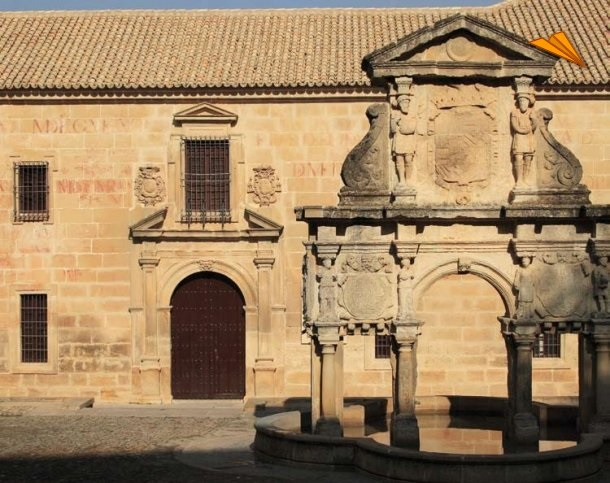arco-medio-punto: (406, 264, 519, 334), (162, 266, 255, 319)
fronton: (357, 11, 566, 77), (168, 97, 242, 125)
fronton-partido: (124, 206, 288, 242)
serliana: (326, 258, 599, 438)
vano-adintelado: (166, 127, 248, 227), (6, 151, 62, 226), (12, 287, 53, 365)
